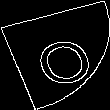O_N: (19, 24, 91, 86)
